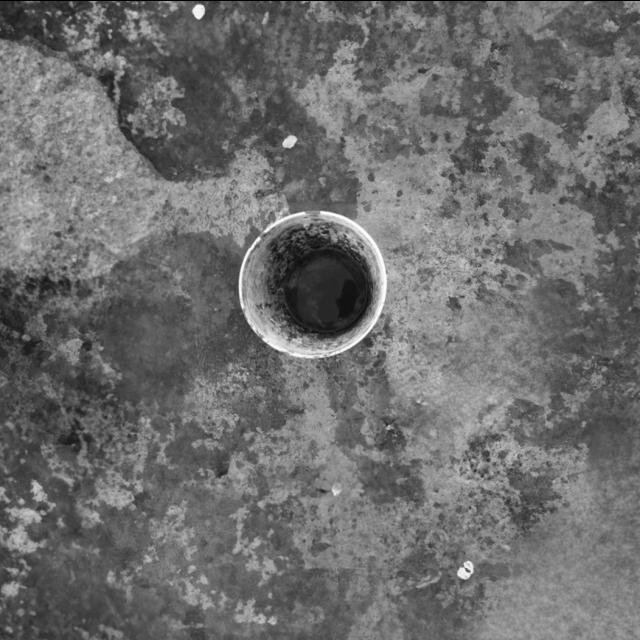Breeding Place: (212, 180, 433, 377)
